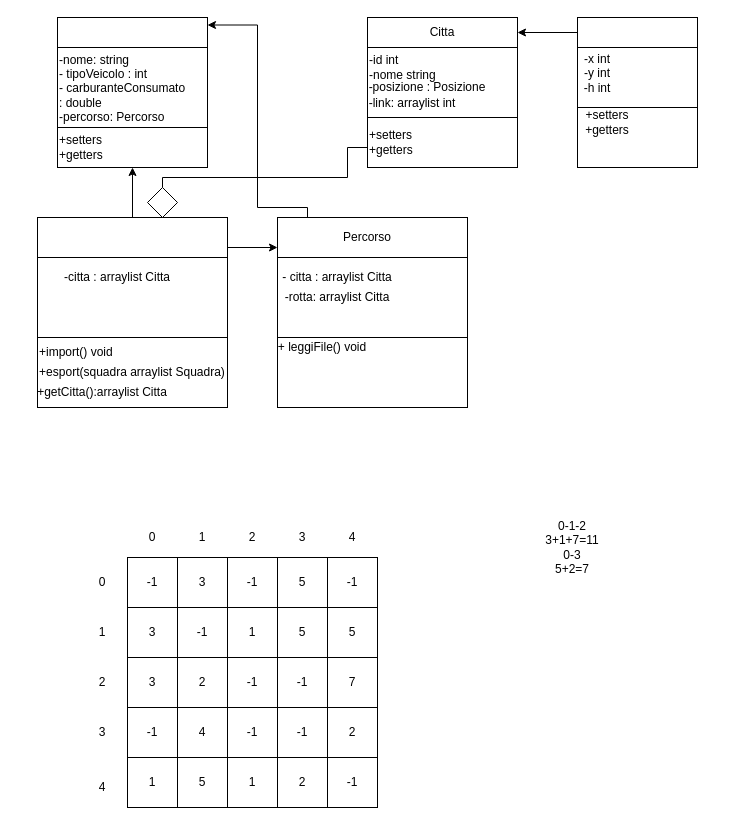
The diagram is 734 pixels wide and 825 high, and some of its shapes have lost their labels. Here are the shapes that lost their labels. From the top down, the box of each, then its label:
(56, 16, 208, 48): Squadra
(576, 16, 698, 48): Posizione
(36, 216, 228, 258): GestioneFile
(276, 336, 468, 408): + creaRotta(tipoVeicolo): double
